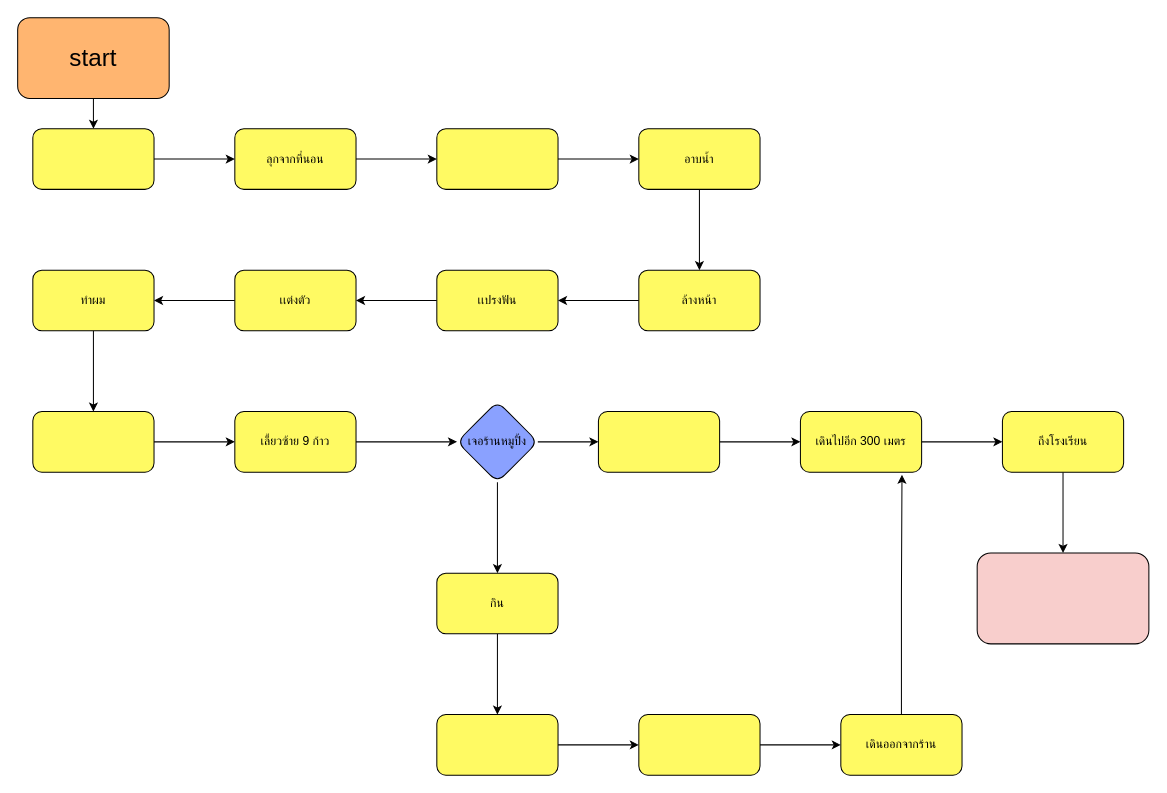
Some shapes in this 1167 by 793 pixel diagram are drawn without their labels. The box of each missing label's shape, as (x1, y1, x2, y2) in pixels:
End: (976, 552, 1149, 644)
ตื่นนอน: (32, 128, 154, 189)
เดินออกจากบ้าน: (32, 411, 154, 472)
เสียเงิน 30 บาท: (436, 714, 558, 775)
เเวะกินหมูปิ้ง: (638, 714, 760, 775)
ไปห้องน้ำ: (436, 128, 558, 189)
ไม่กิน: (597, 411, 720, 472)
